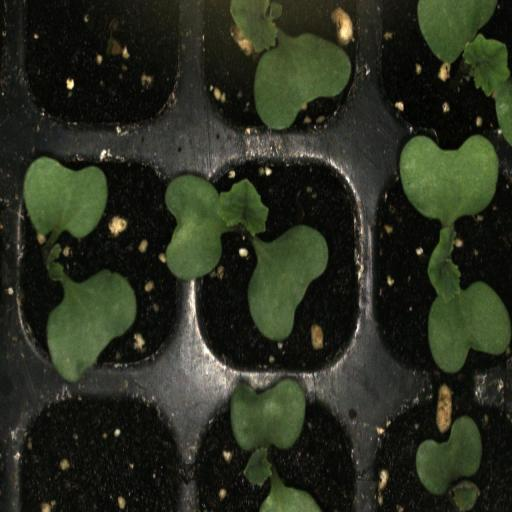Folha: (46, 245, 137, 385), (22, 156, 108, 240), (416, 416, 482, 512)
Germinacao: (1, 137, 197, 381), (199, 140, 364, 380), (369, 147, 512, 382), (190, 0, 364, 147), (365, 0, 512, 146)
